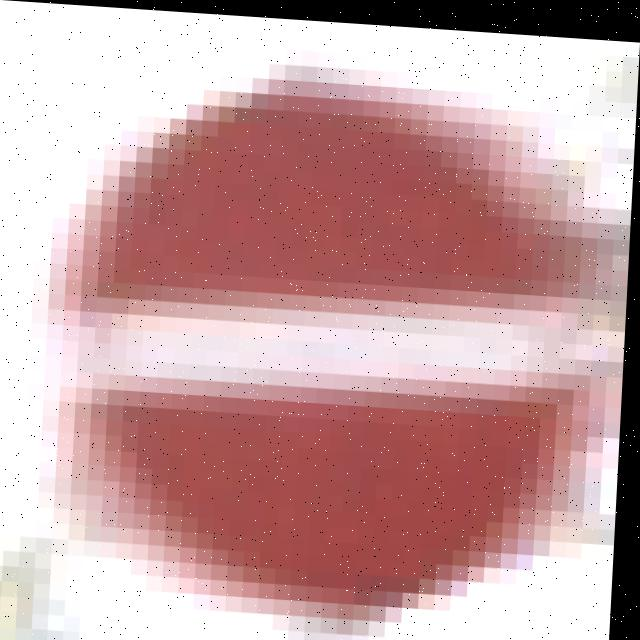road_rough: (48, 48, 614, 640)
